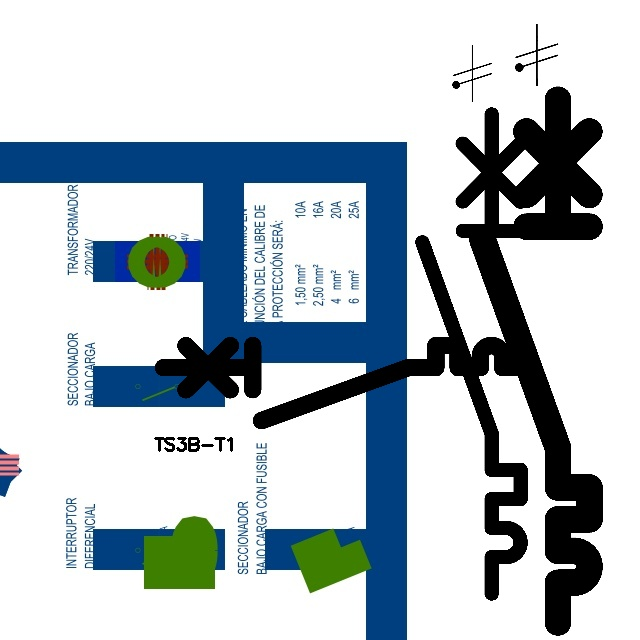interruptor_termomagnetico: (469, 86, 603, 635), (410, 102, 533, 606), (154, 336, 540, 430)
